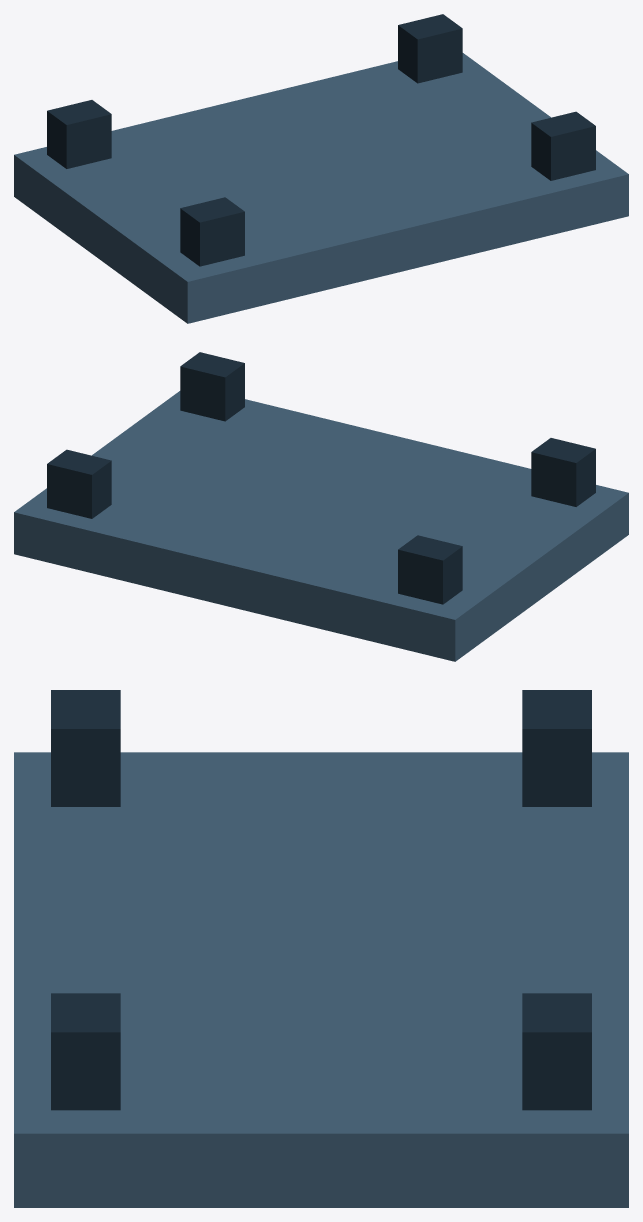
Rendered from 26_L80_PhotonicThermalControlPlatform.fbx.
3 views of the same model, one above another, from view 1: azimuth 30°, elevation 25°; view 2: azimuth 150°, elevation 25°; view 3: azimuth 270°, elevation 25° (orthographic). The views are drawn at different scales.
Parts seen in each view (by area): view 1: PhotonicThermalControlPlatform; view 2: PhotonicThermalControlPlatform; view 3: PhotonicThermalControlPlatform.
Boxes of the visible parts, x1,y1,x2,y2 form: PhotonicThermalControlPlatform: (14,14,628,323); PhotonicThermalControlPlatform: (14,352,628,661); PhotonicThermalControlPlatform: (14,690,628,1207).
Size of the model in its own units: 440 by 84.8 by 300.
